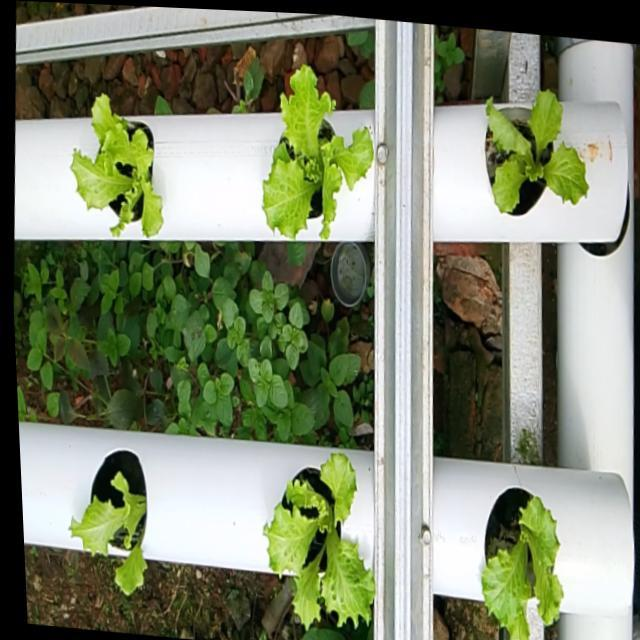Baby: (265, 452, 376, 639), (264, 65, 374, 240), (486, 89, 590, 217), (72, 93, 164, 236), (483, 488, 564, 640), (71, 448, 148, 593)
